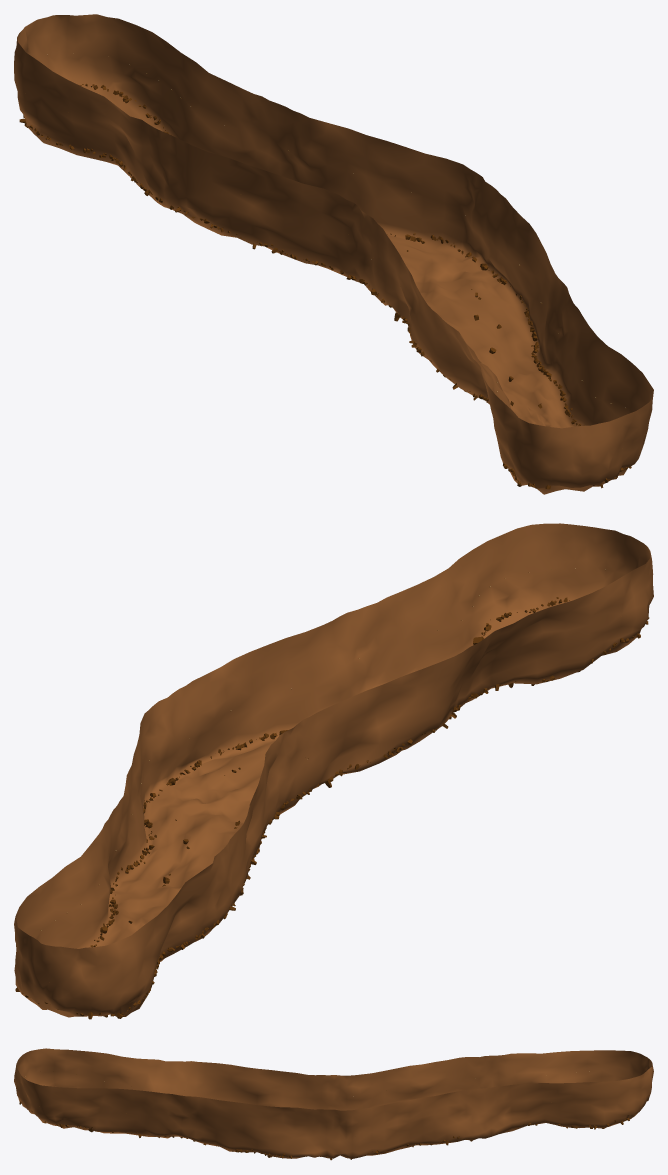
Rendered from cave.fbx.
The picture shows the model from 3 angles, top to bottom: view 1: azimuth 30°, elevation 25°; view 2: azimuth 150°, elevation 25°; view 3: azimuth 270°, elevation 25°; orthographic projection. The views are drawn at different scales.
Parts seen in each view (by area): view 1: Plane.002, Cube.221 - copy.001; view 2: Plane.002, Cube.221 - copy.001; view 3: Plane.002, Cube.221 - copy.001.
Part boxes in pixels (x1,y1,x2,y2): Plane.002: [14, 14, 653, 494]; Cube.221 - copy.001: [19, 83, 631, 489]; Plane.002: [14, 523, 653, 1017]; Cube.221 - copy.001: [15, 597, 649, 1019]; Plane.002: [14, 1048, 653, 1158]; Cube.221 - copy.001: [19, 1101, 637, 1160].
Bounding box in the file's own units: 6195 × 2649 × 27153.
